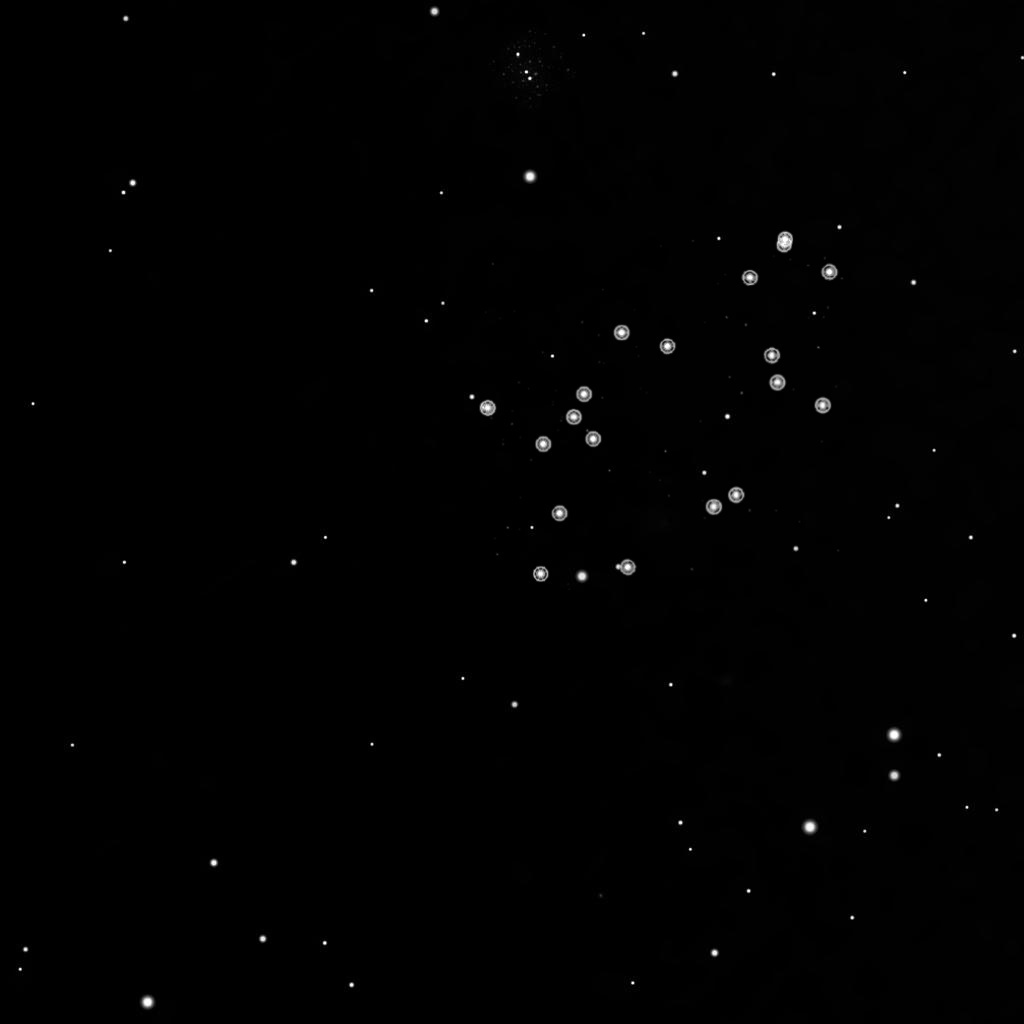canis_major: (528, 320, 680, 463)
